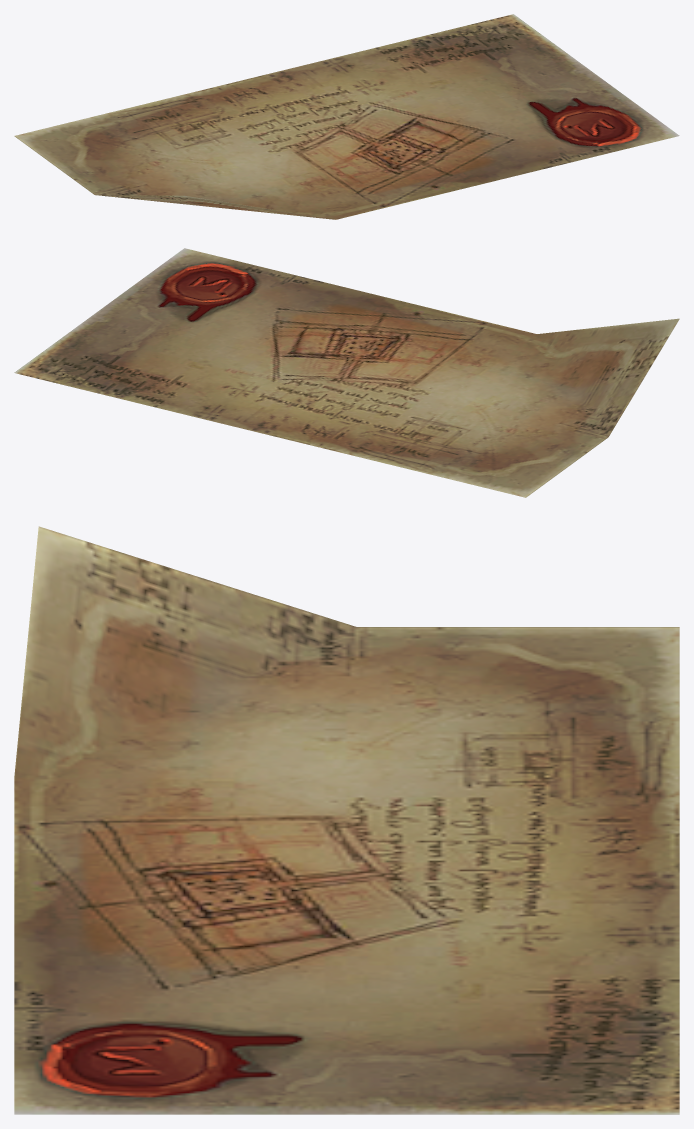
File: paper.FBX
3 views of the same model, one above another, from view 1: azimuth 30°, elevation 25°; view 2: azimuth 150°, elevation 25°; view 3: azimuth 270°, elevation 25° (orthographic). The views are drawn at different scales.
Visible parts, largest first — view 1: paper; view 2: paper; view 3: paper.
Boxes of the visible parts, left/top/right/bottom form: paper: left=14, top=14, right=679, bottom=219; paper: left=14, top=248, right=679, bottom=497; paper: left=14, top=526, right=679, bottom=1114.
Bounding box in the file's own units: 0.5092 × 0.0538 × 0.2938.
